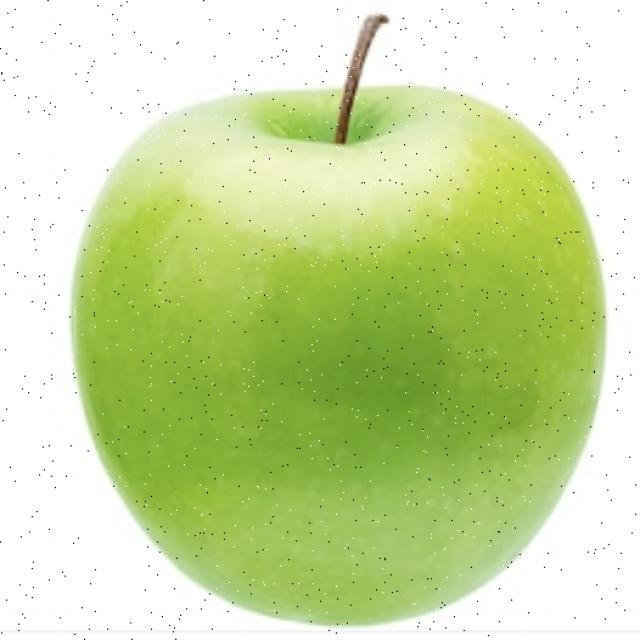Fresh Apple: (117, 108, 578, 622)
